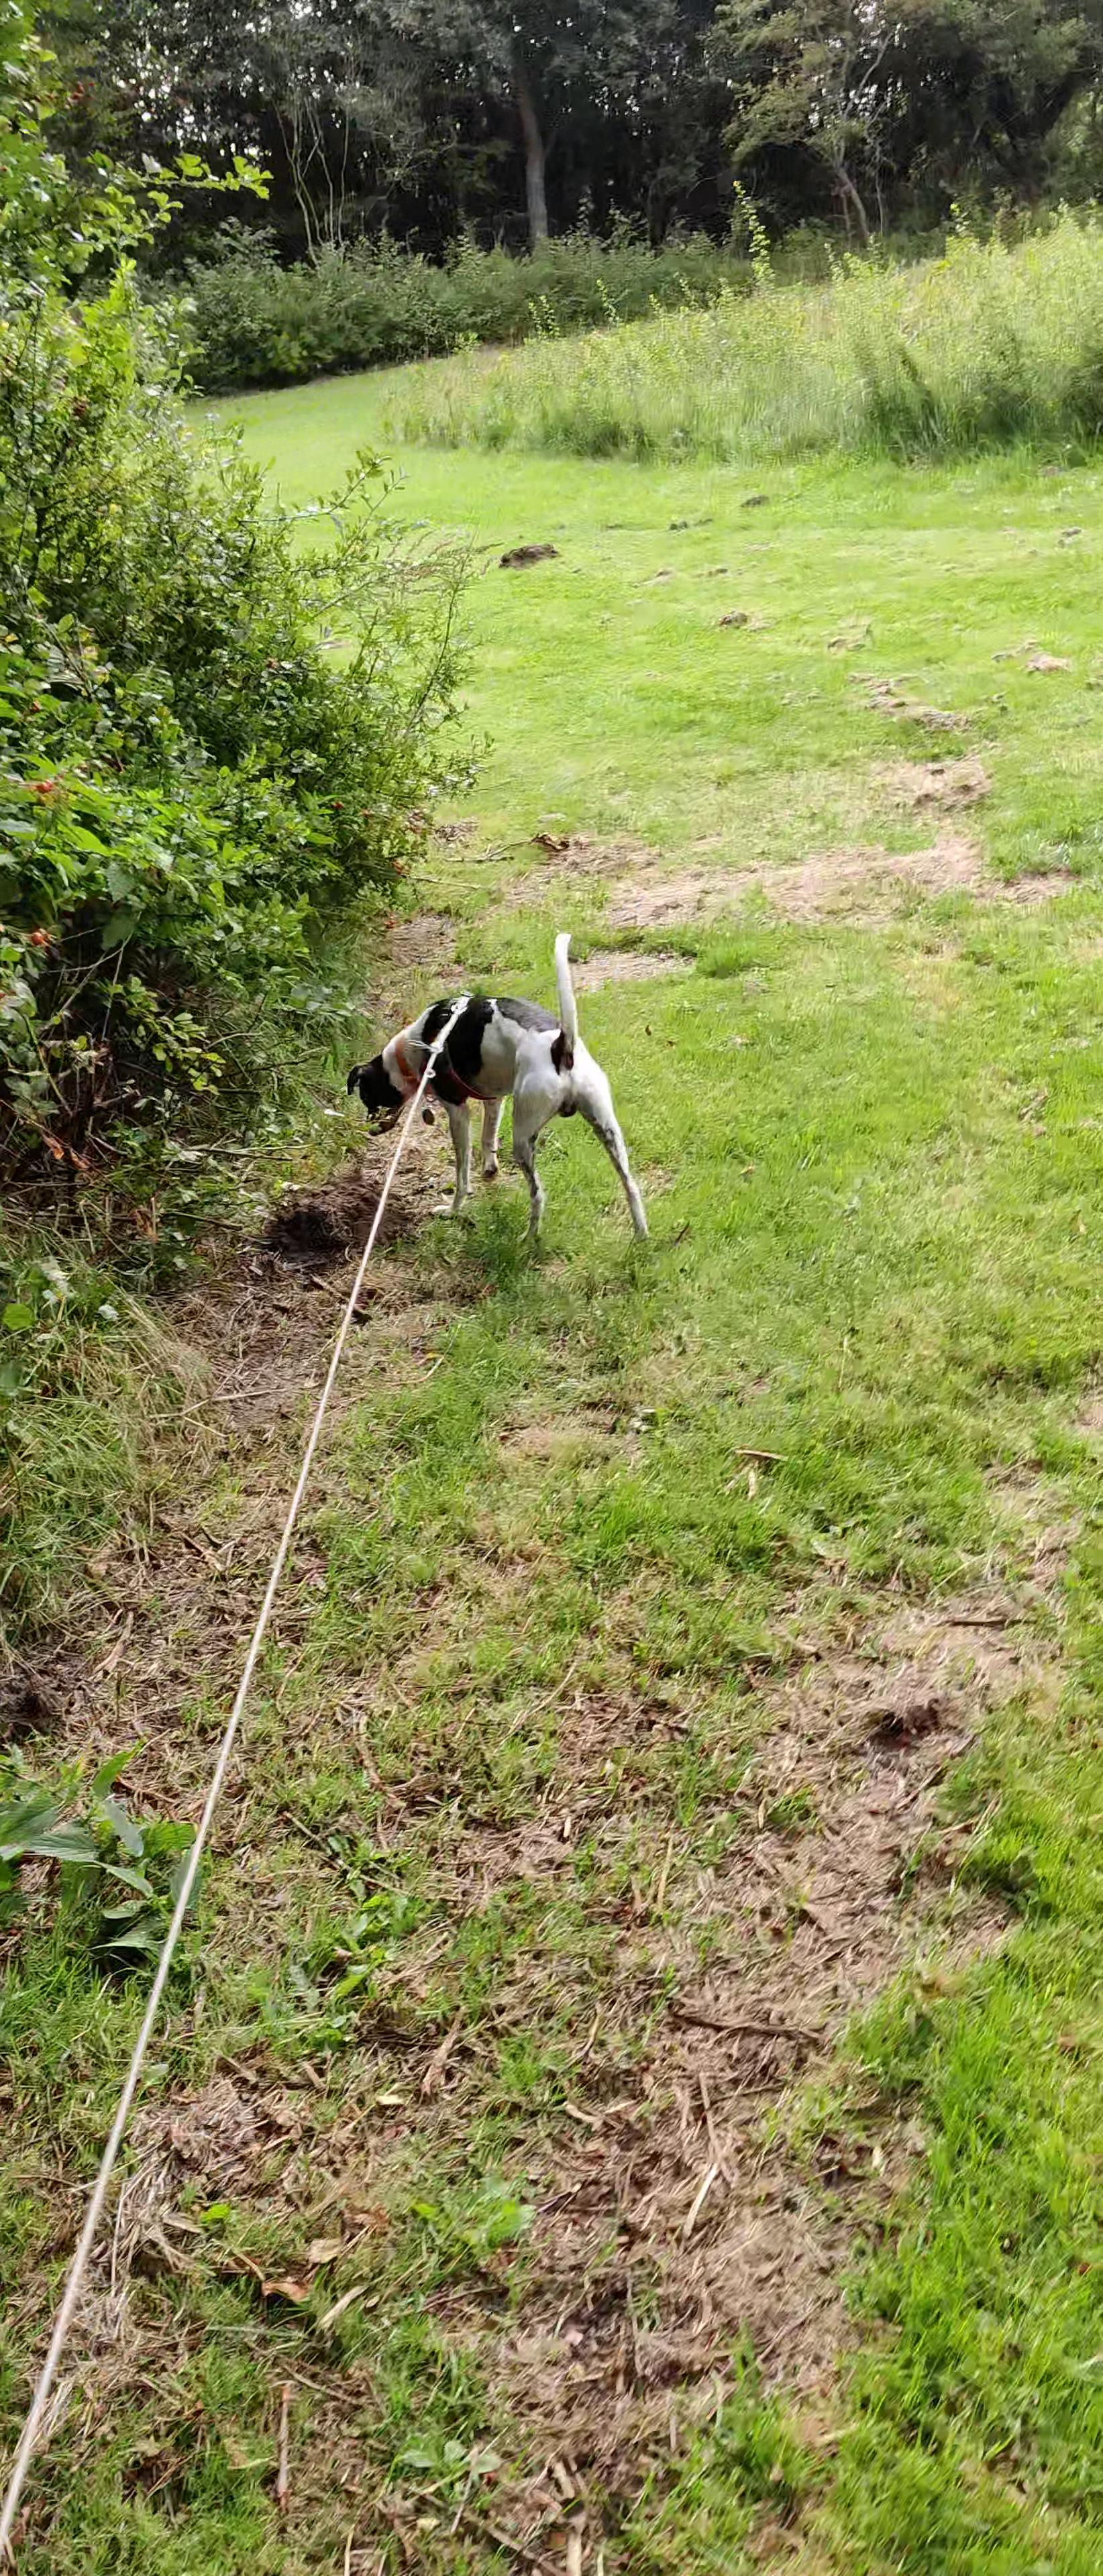Dog: (334, 923, 662, 1257)
